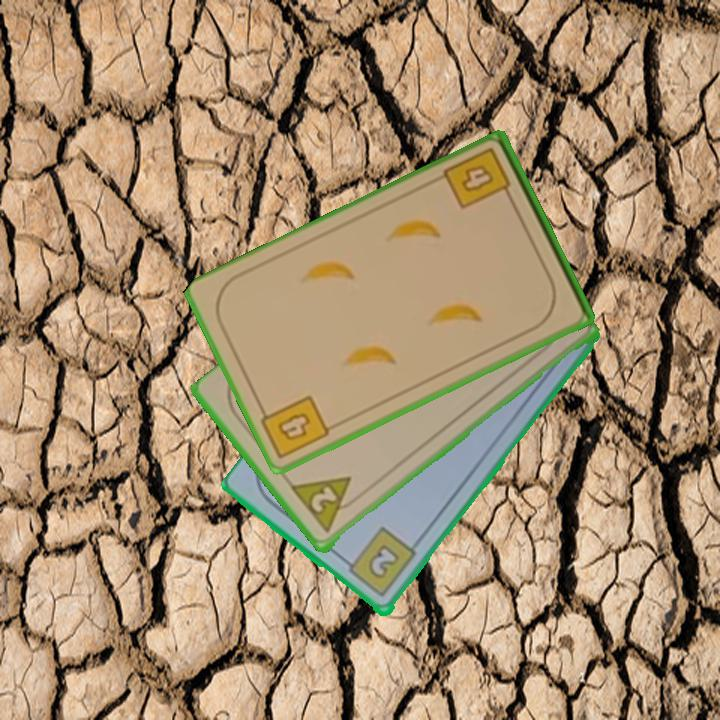2b: (339, 524, 419, 601)
2p: (288, 473, 365, 537)
4b: (255, 392, 333, 462), (441, 144, 517, 213)
